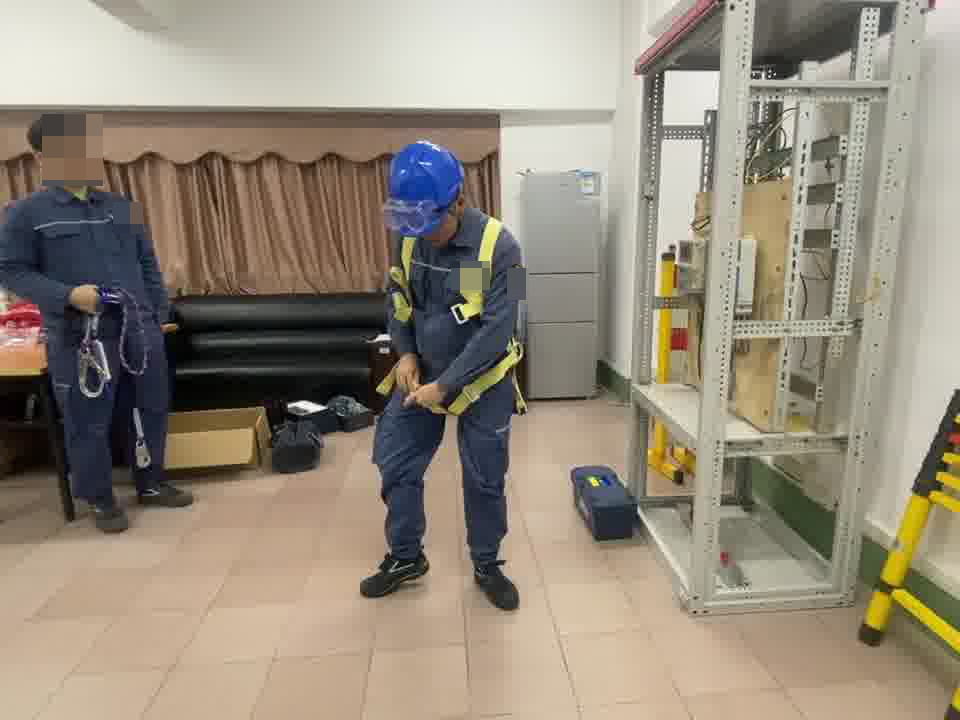downsuit: (374, 366, 517, 566), (54, 320, 170, 493)
halt: (387, 142, 465, 239), (67, 284, 102, 319)
hand: (404, 377, 446, 412), (391, 351, 417, 391)
noear: (31, 151, 58, 172)
person: (364, 140, 529, 604), (1, 112, 186, 517)
safebelt: (374, 216, 529, 426)
sleeve: (508, 261, 526, 293)
unhalt: (24, 116, 99, 189)
upsuit: (3, 189, 168, 322), (388, 206, 524, 360)
